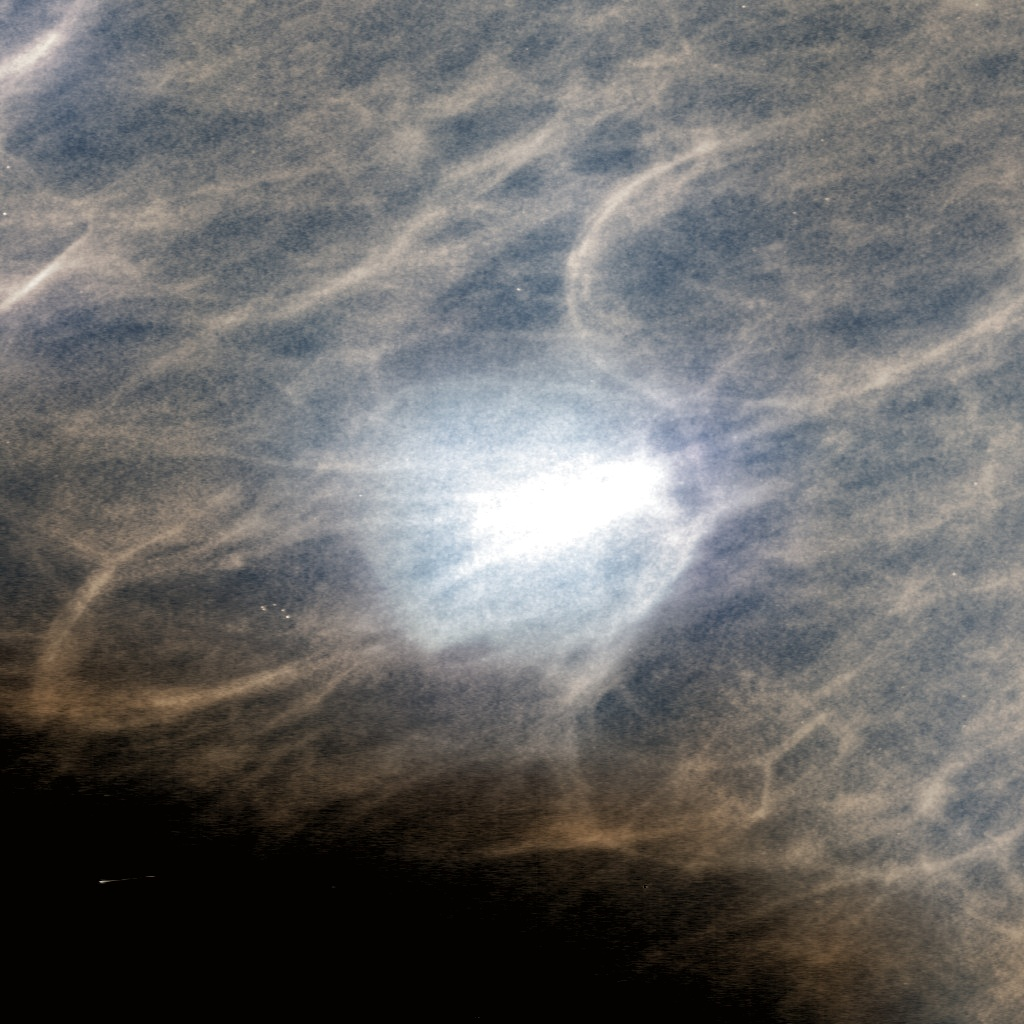tumor: (332, 360, 692, 664)
